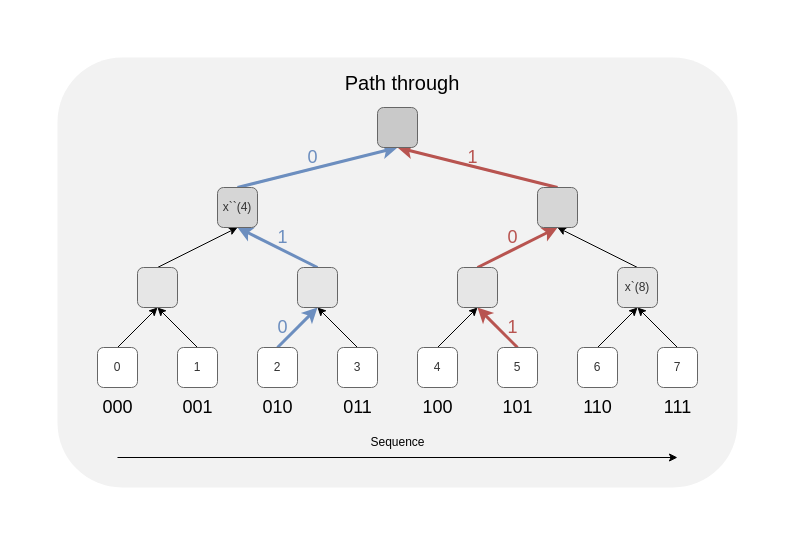
This 794x544 diagram has some shape labels left out. Here are the shapes that lost their labels. From the top down, the box of each, then its label:
(376, 106, 418, 148): x```(8)
(536, 186, 578, 228): x``(8)
(136, 266, 178, 308): x`(2)
(296, 266, 338, 308): x`(4)
(456, 266, 498, 308): x`(6)
